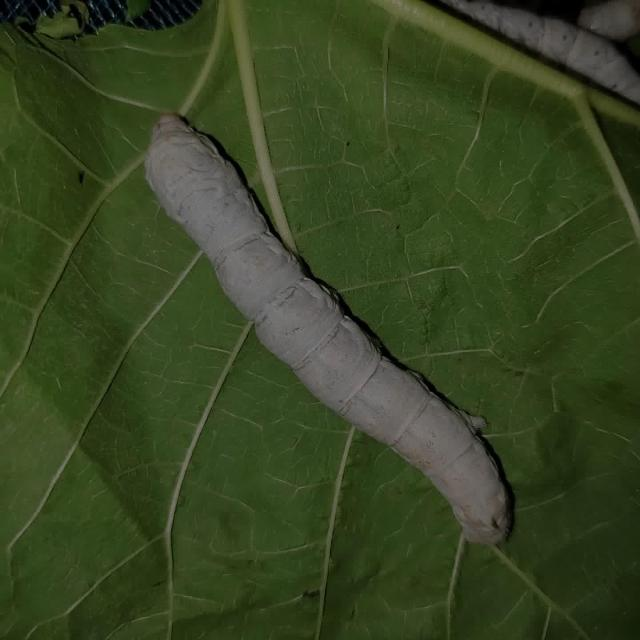Healthy: (124, 74, 536, 583)
